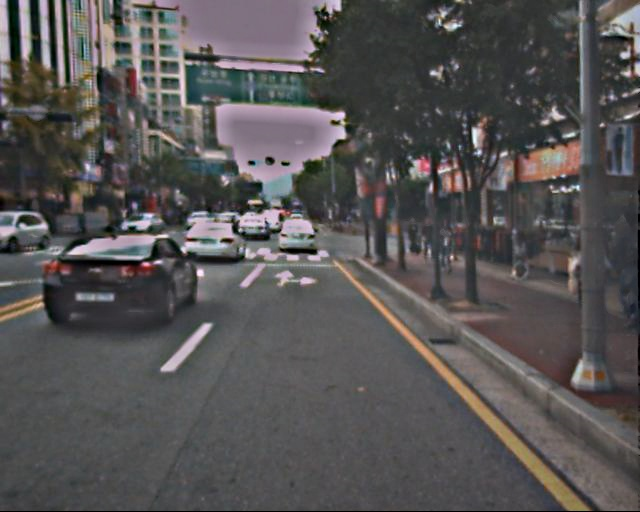person: (560, 219, 611, 327), (600, 212, 640, 327), (436, 215, 456, 274), (420, 218, 439, 265), (407, 217, 424, 255)
